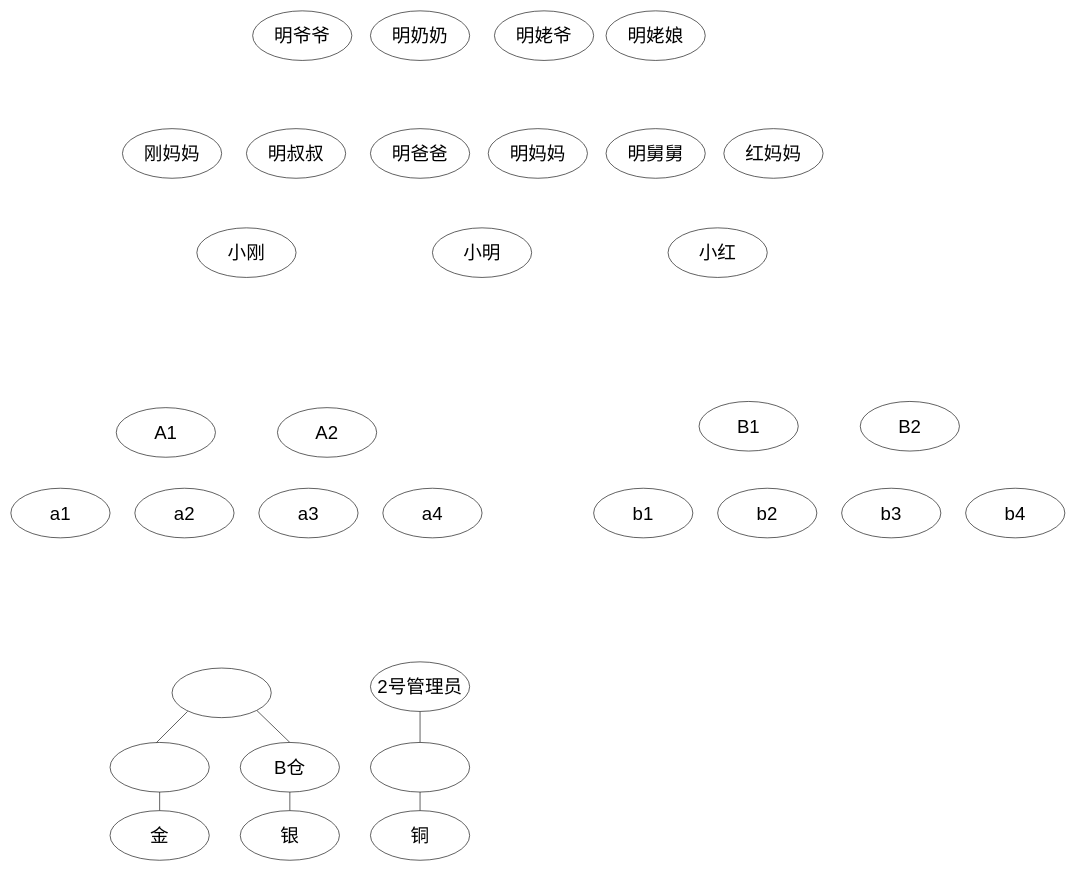
Some shapes in this 1076 by 871 pixel diagram are drawn without their labels. The box of each missing label's shape, as (x1, y1, x2, y2) in pixels:
1号管理员: (171, 667, 271, 718)
A仓: (109, 742, 209, 792)
C仓: (370, 742, 470, 792)
